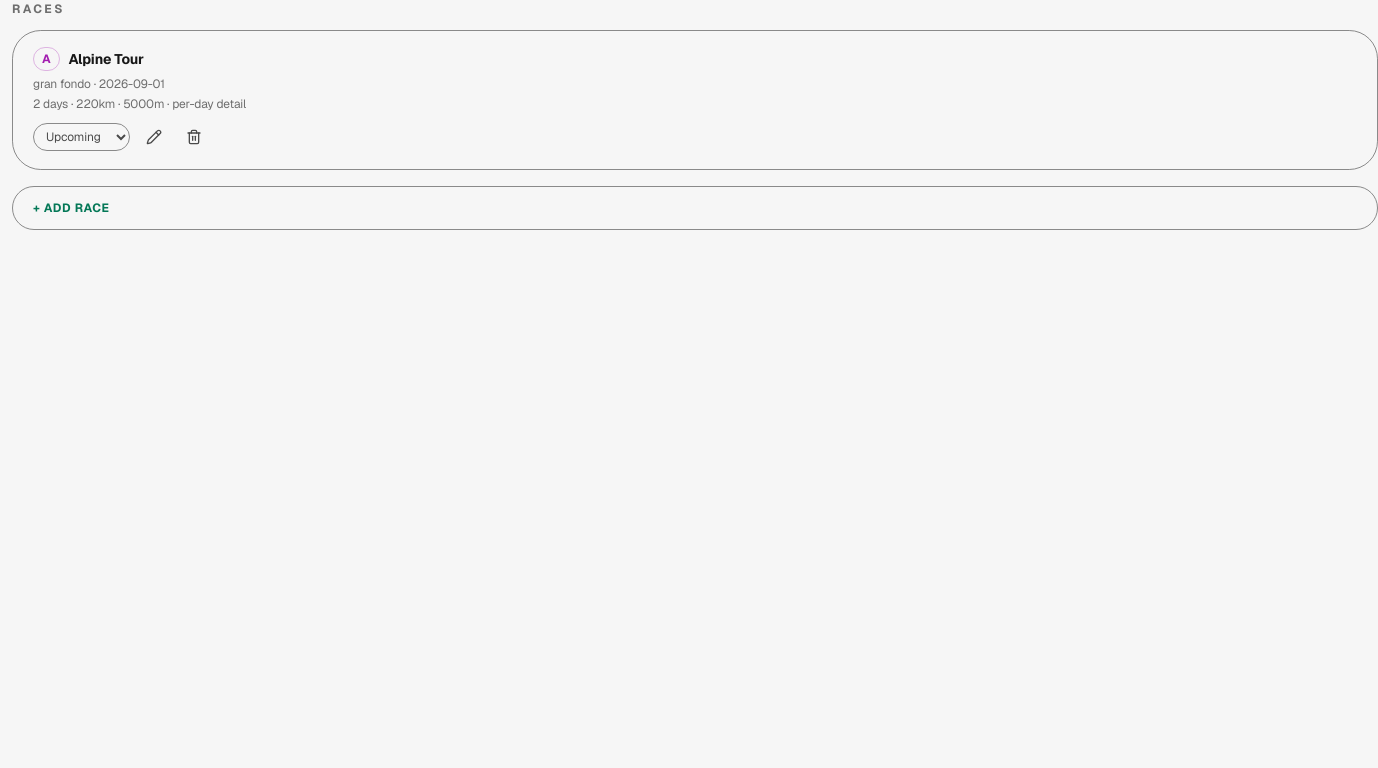
Test: RacesSection demand edit › shows the server's error and keeps the form open when the save fails
This screenshot has width=1378, height=768.
Step 1. Click the button named "Edit demand for Alpine Tour" → (154, 137), box [138,121,170,153]
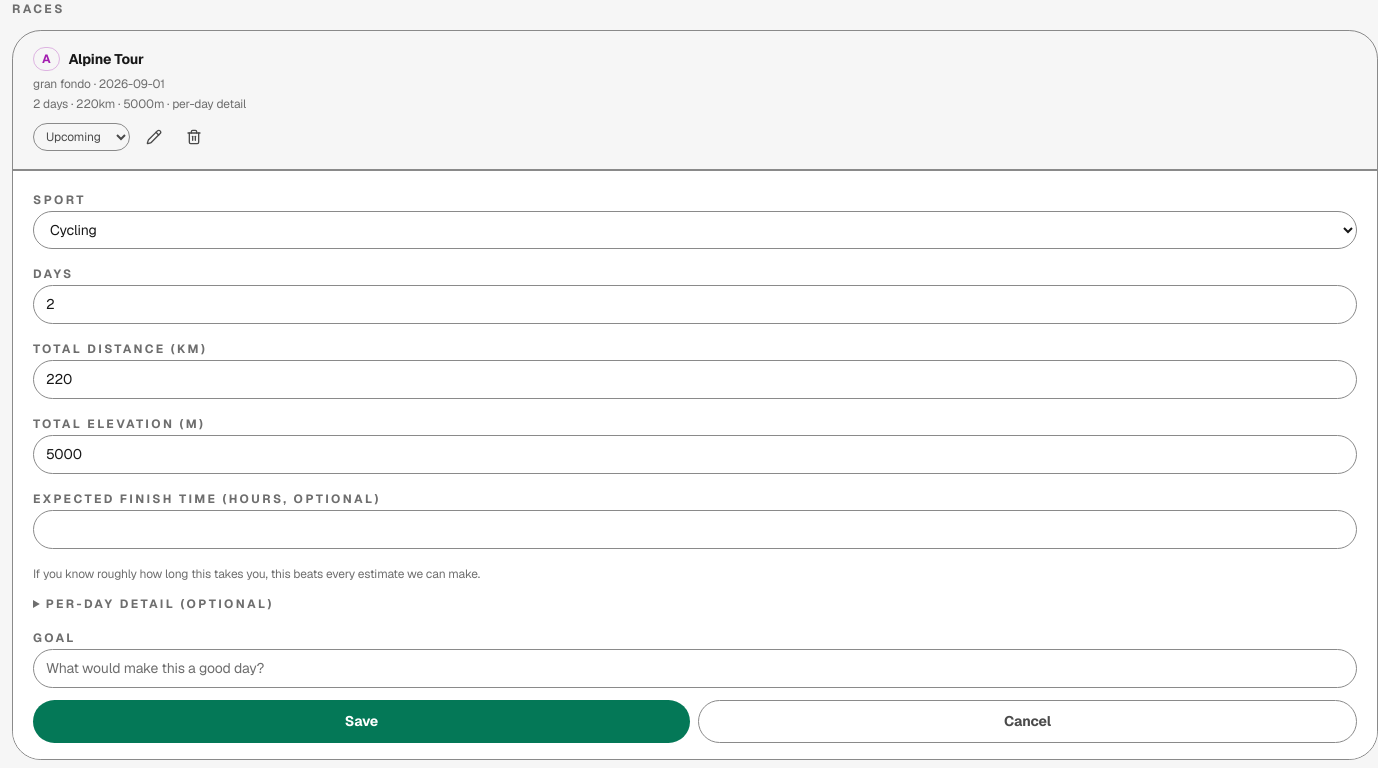
Step 2. Submit the form named "Demand form for Alpine Tour"
(page scrolled)
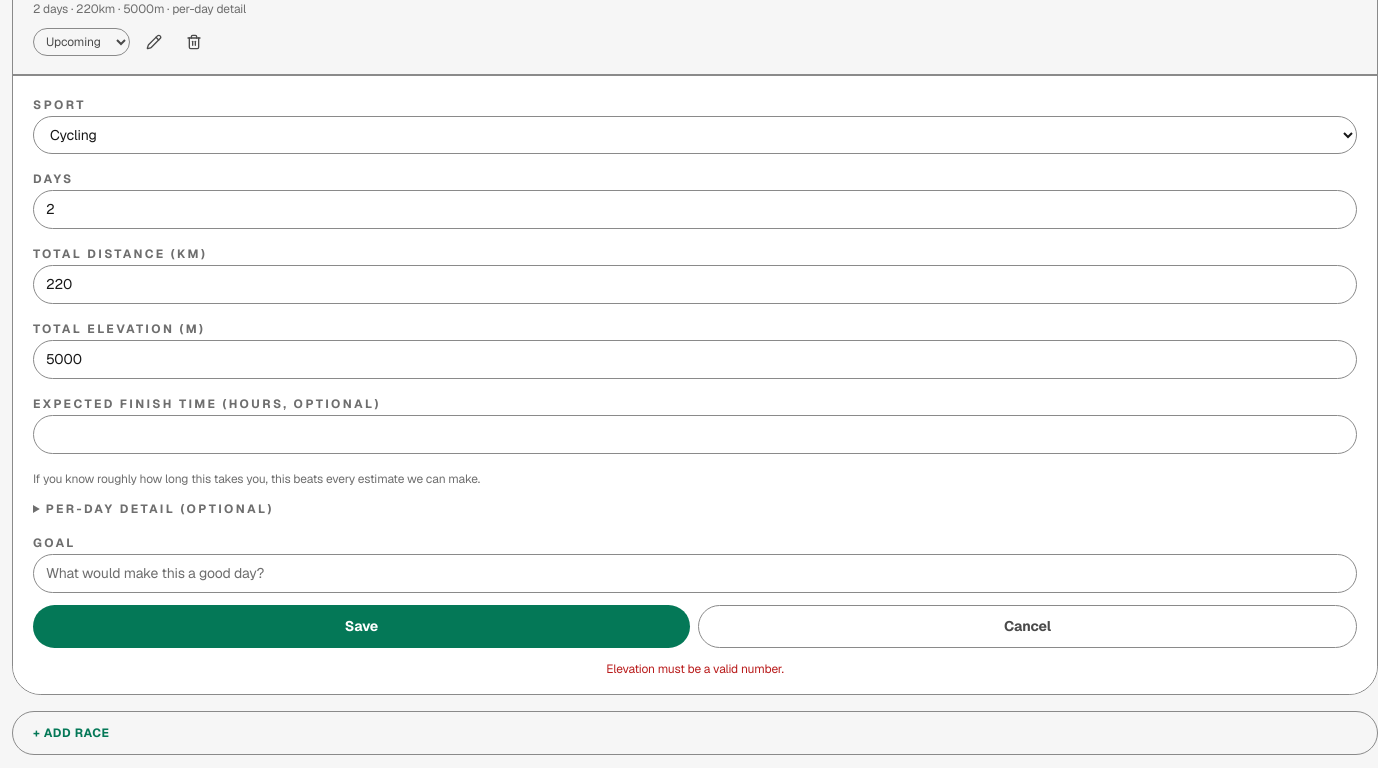
Now the form named "Demand form for Alpine Tour" is shown
Now the text "Elevation must be a valid number." is shown, box [606,661,784,677]
